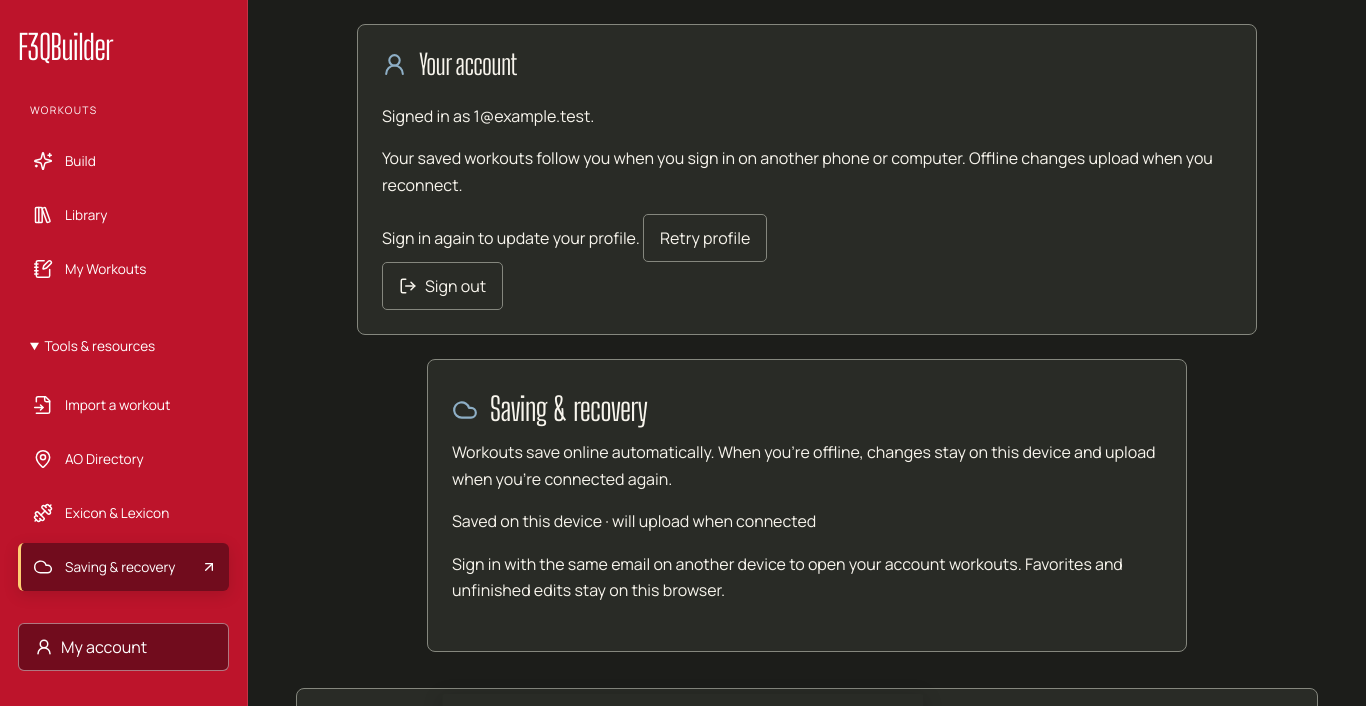
Test case: opens the scoped account cache offline even when the stored token needs a refresh
This screenshot has width=1366, height=706.
Expected: the text "1@example.test" is shown, [474, 105, 590, 127]
Step 1. Click the link "My Workouts" → (90, 269), box [33, 259, 146, 279]
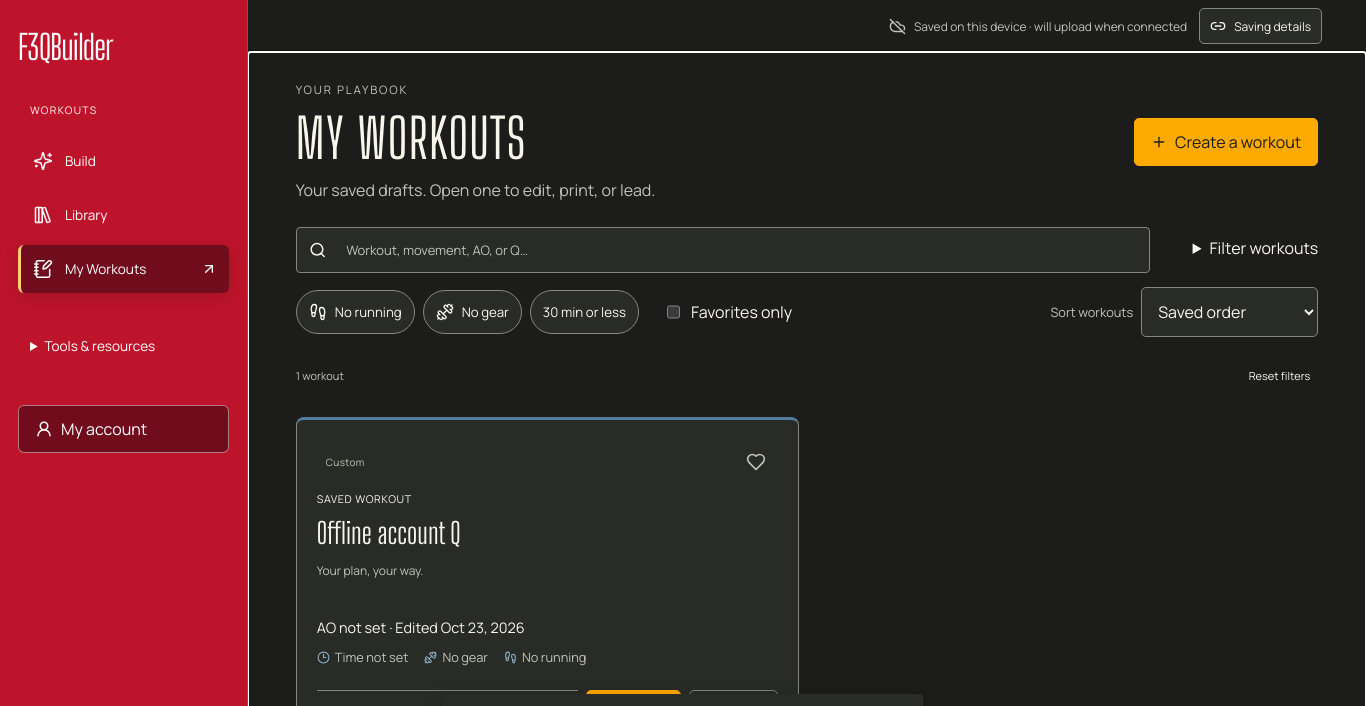
Now the button "Offline account Q" is shown, box [317, 516, 461, 551]
